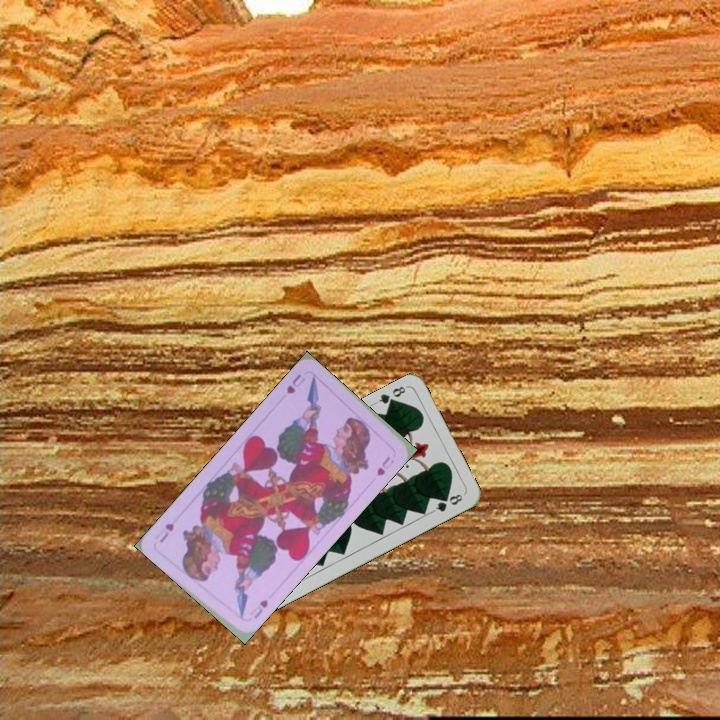G8: (371, 382, 409, 410)
HU: (238, 595, 270, 623), (283, 370, 308, 397)
